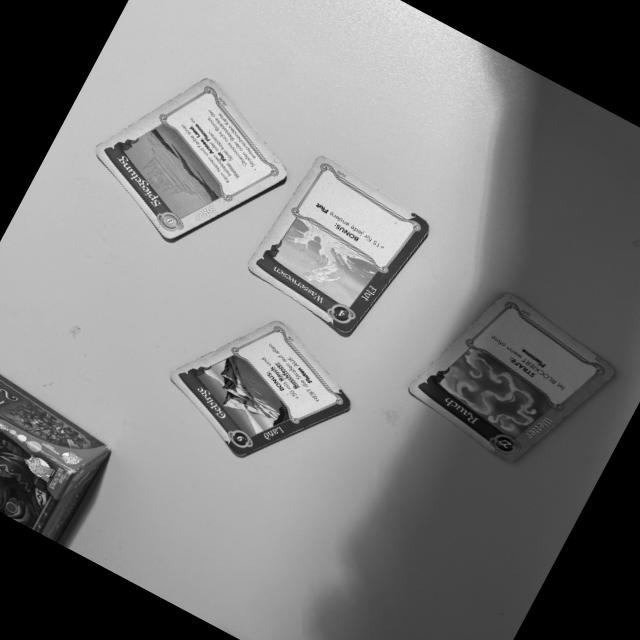Mirage: (88, 76, 291, 244)
Mountain: (166, 319, 358, 459)
Smoke: (402, 289, 627, 468)
Water Elemental: (245, 149, 436, 338)
